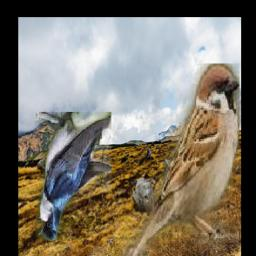Sparrow: (123, 63, 239, 256)
Swallow: (37, 112, 112, 241)
